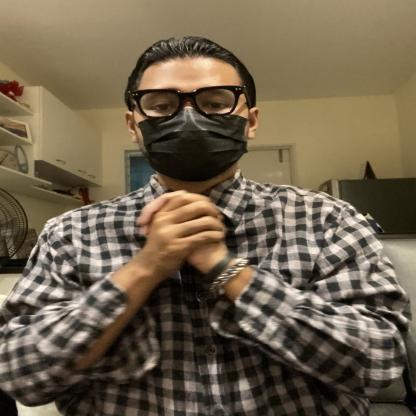Grieve: (69, 174, 318, 306)
